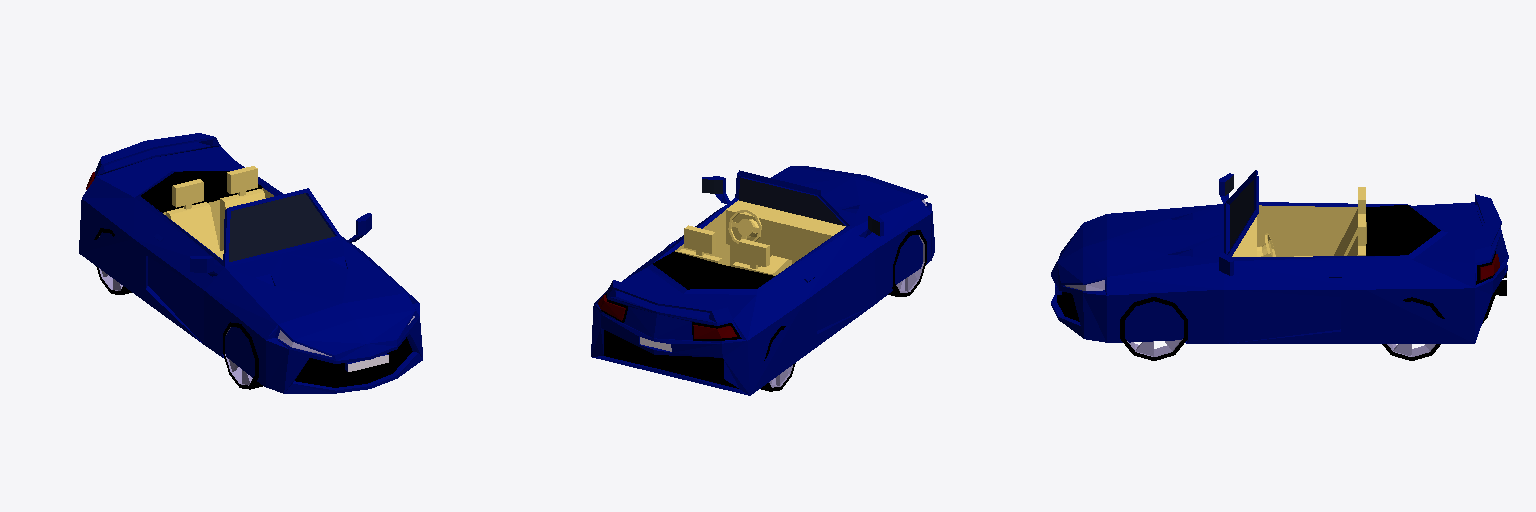
File: lambo.obj
3 renders of one model, left to right at view 1: azimuth 30°, elevation 25°; view 2: azimuth 150°, elevation 25°; view 3: azimuth 270°, elevation 25°, orthographic.
Parts seen in each view (by area): view 1: lambo; view 2: lambo; view 3: lambo.
Part boxes in pixels (x1,y1,x2,y2): lambo: (79, 133, 422, 393); lambo: (591, 166, 934, 395); lambo: (1051, 170, 1508, 360).
Bounding box in the file's own units: 79.02 × 55.27 × 172.